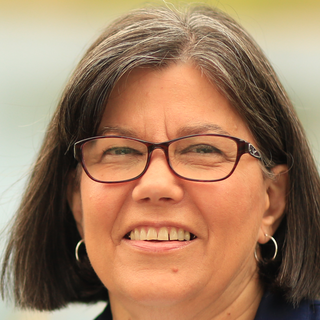eye: (180, 141, 228, 163), (98, 142, 144, 163)
